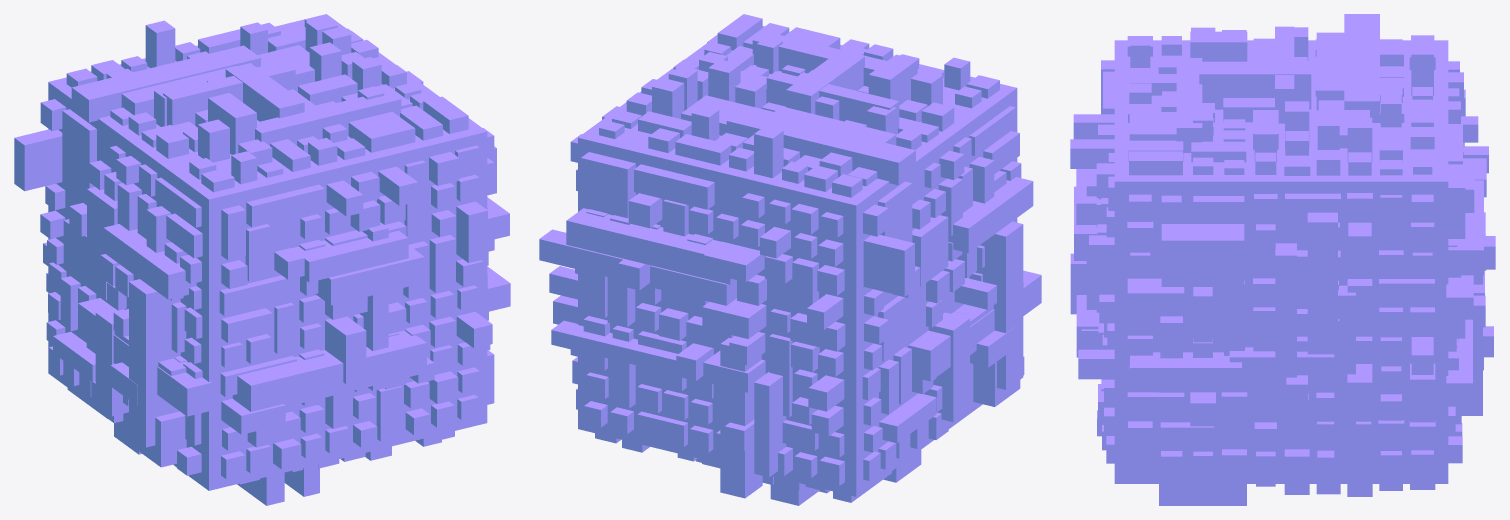
The model's file is tech_fragment_collision.glb.
3 renders of one model, left to right at view 1: azimuth 30°, elevation 25°; view 2: azimuth 150°, elevation 25°; view 3: azimuth 270°, elevation 25°, orthographic. The views are drawn at different scales.
Parts seen in each view (by area): view 1: TechFragmentCollision; view 2: TechFragmentCollision; view 3: TechFragmentCollision.
Boxes of the visible parts, left/top/right/bottom form: TechFragmentCollision: left=14, top=14, right=510, bottom=505; TechFragmentCollision: left=539, top=14, right=1041, bottom=505; TechFragmentCollision: left=1070, top=14, right=1495, bottom=505.
Bounding box in the file's own units: 1.28 × 1.26 × 1.27.
